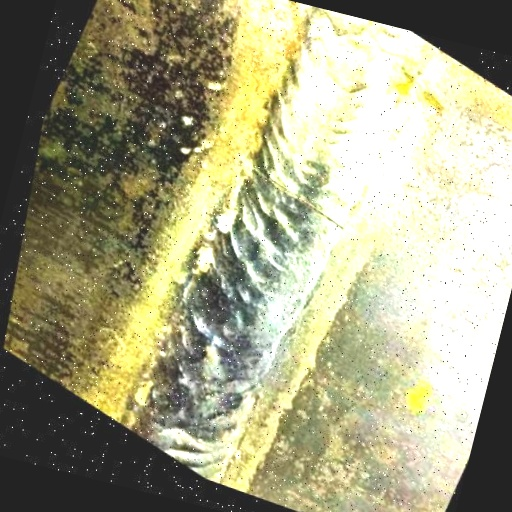crack: (221, 142, 368, 251)
